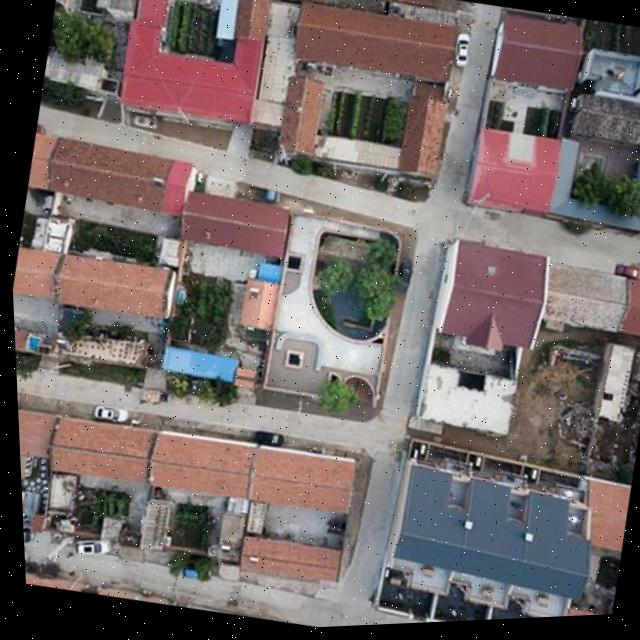building: (372, 443, 603, 624), (116, 0, 278, 133), (287, 0, 465, 96), (42, 123, 198, 229), (428, 233, 556, 359), (460, 113, 571, 225), (48, 245, 182, 329), (549, 126, 640, 242), (245, 438, 363, 523), (43, 407, 155, 494), (144, 423, 257, 505), (175, 184, 293, 262), (485, 11, 587, 99), (537, 253, 635, 338), (236, 531, 342, 588), (576, 475, 635, 559), (575, 40, 640, 116), (158, 342, 241, 390), (18, 396, 60, 470), (237, 271, 281, 335), (619, 273, 640, 344), (21, 479, 47, 534), (549, 598, 613, 617)
